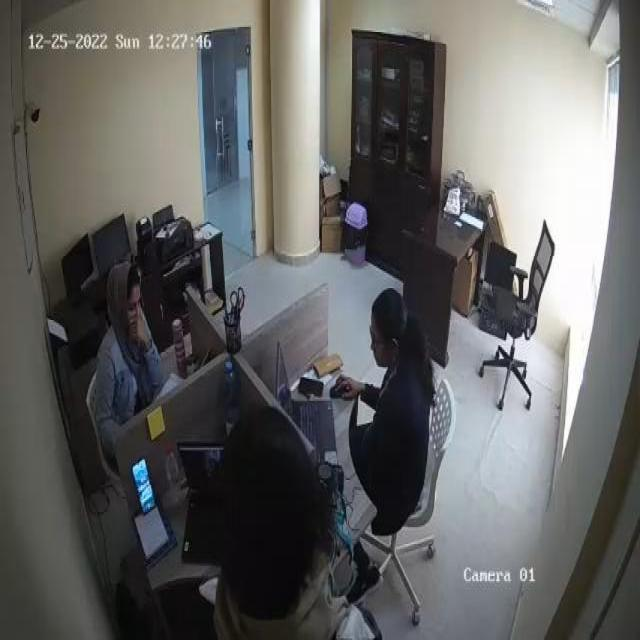bare_hand: (332, 359, 371, 409), (125, 312, 155, 355)
